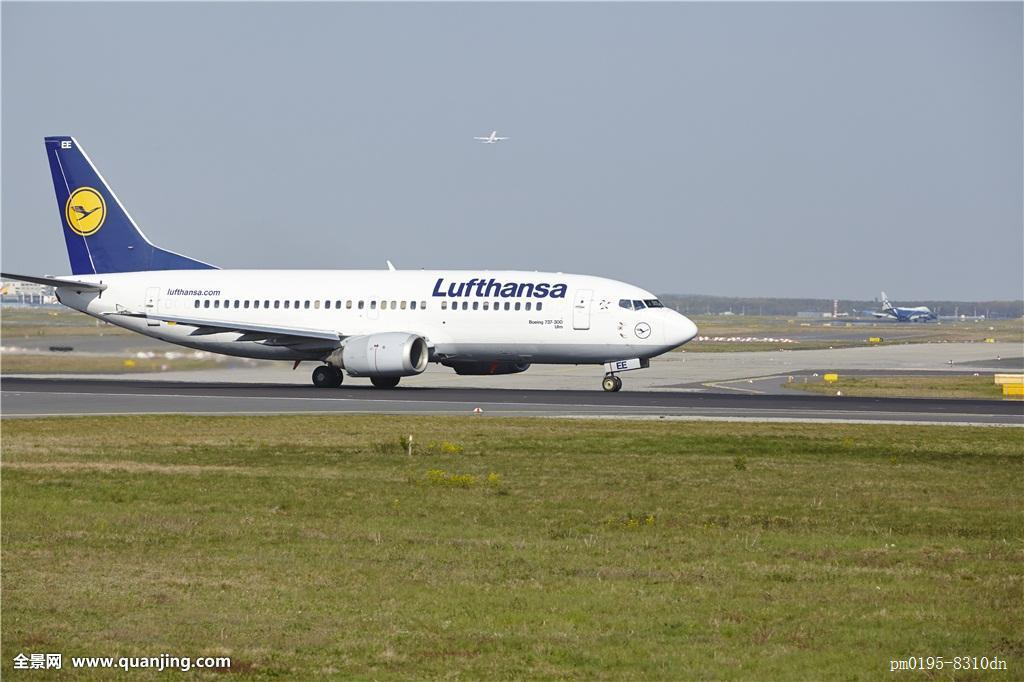airplane: (15, 131, 706, 398), (470, 127, 512, 149)
